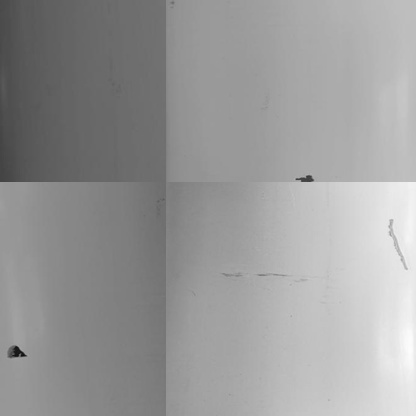kongdong: (3, 341, 29, 362), (297, 170, 313, 186)
sunshang: (386, 216, 408, 270)
